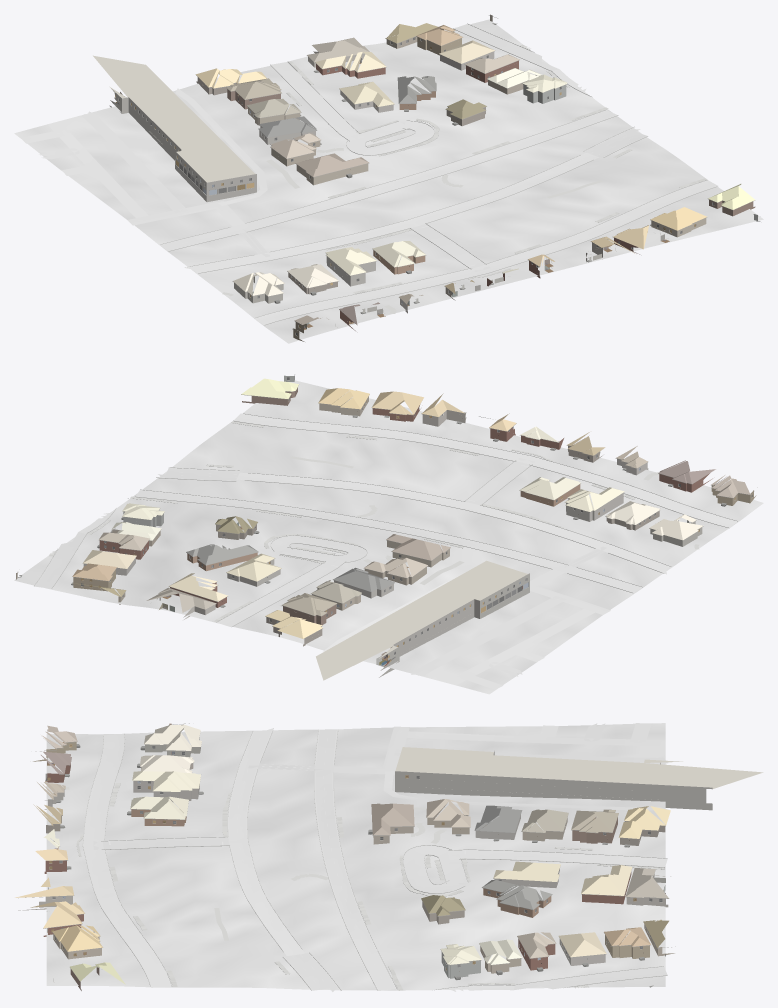
3 renders of one model, top to bottom at view 1: azimuth 30°, elevation 25°; view 2: azimuth 150°, elevation 25°; view 3: azimuth 270°, elevation 25°, orthographic. The views are drawn at different scales.
Visible parts, largest first — view 1: ground, roof, concrete, asphalt, roof_flat, wall, curb, walk, wall_stucco, wall_com, detail, wall_stone (+1 smaller); view 2: ground, roof, concrete, asphalt, roof_flat, wall, curb, wall_com, wall_stucco, walk, detail, wall_stone; view 3: ground, roof, concrete, asphalt, roof_flat, wall_com, wall, curb, walk, wall_stucco, detail, wall_stone (+2 smaller).
Part boxes in pixels (x1=…): ground: x1=14, y1=19, x2=763, y2=343; roof: x1=196, y1=23, x2=754, y2=325; concrete: x1=21, y1=24, x2=717, y2=324; asphalt: x1=161, y1=110, x2=646, y2=273; roof_flat: x1=93, y1=55, x2=255, y2=182; wall: x1=196, y1=14, x2=755, y2=341; curb: x1=160, y1=23, x2=717, y2=325; walk: x1=222, y1=44, x2=706, y2=313; wall_stucco: x1=234, y1=51, x2=760, y2=303; wall_com: x1=109, y1=89, x2=256, y2=202; detail: x1=114, y1=15, x2=757, y2=335; wall_stone: x1=259, y1=51, x2=494, y2=313; ground: x1=14, y1=380, x2=763, y2=694; roof: x1=72, y1=378, x2=750, y2=638; concrete: x1=34, y1=413, x2=737, y2=689; asphalt: x1=136, y1=467, x2=670, y2=592; roof_flat: x1=316, y1=560, x2=527, y2=680; wall: x1=16, y1=387, x2=756, y2=646; curb: x1=34, y1=413, x2=737, y2=626; wall_com: x1=379, y1=573, x2=529, y2=677; wall_stucco: x1=123, y1=374, x2=702, y2=619; walk: x1=49, y1=421, x2=699, y2=621; detail: x1=18, y1=377, x2=757, y2=660; wall_stone: x1=83, y1=459, x2=648, y2=598; ground: x1=46, y1=723, x2=665, y2=990; roof: x1=15, y1=724, x2=670, y2=984; concrete: x1=83, y1=723, x2=668, y2=991; asphalt: x1=228, y1=728, x2=396, y2=991; roof_flat: x1=395, y1=747, x2=763, y2=788; wall_com: x1=395, y1=751, x2=712, y2=810; wall: x1=33, y1=723, x2=674, y2=990; curb: x1=79, y1=728, x2=667, y2=990; walk: x1=46, y1=733, x2=664, y2=990; wall_stucco: x1=18, y1=738, x2=668, y2=978; detail: x1=18, y1=723, x2=675, y2=987; wall_stone: x1=44, y1=781, x2=605, y2=965.
Size of the model in its own units: 259 by 16.56 by 303.
